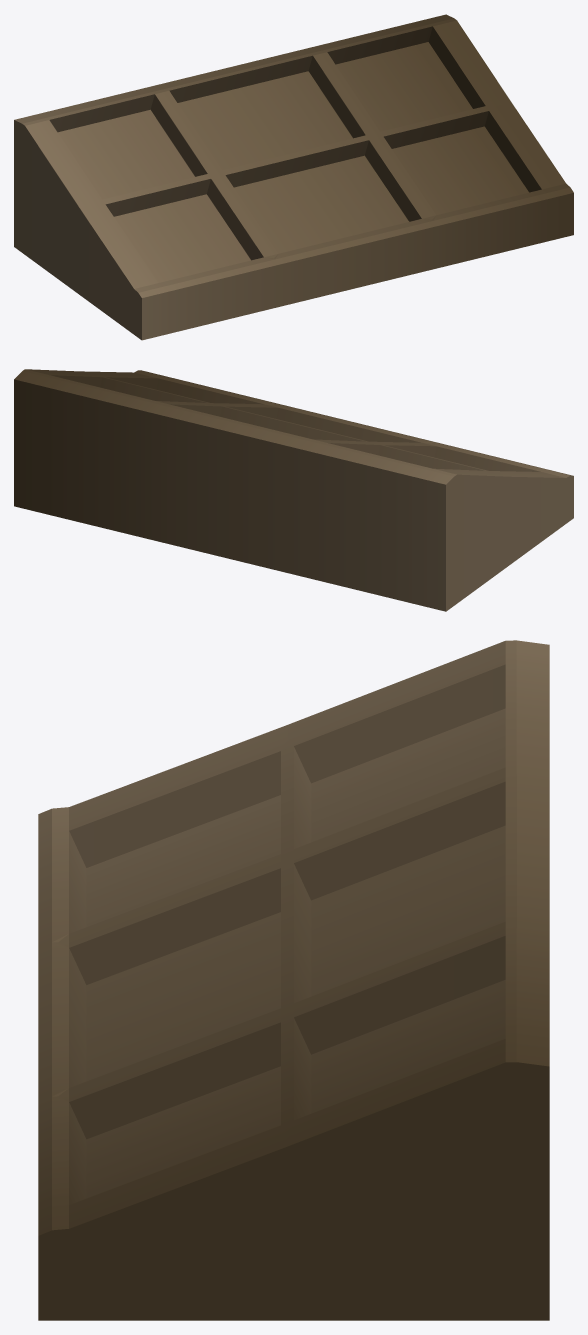
The model's file is MarketStall_Tray_6.gltf.
The picture shows the model from 3 angles, top to bottom: view 1: azimuth 30°, elevation 25°; view 2: azimuth 150°, elevation 25°; view 3: azimuth 270°, elevation 25°; orthographic projection. The views are drawn at different scales.
Visible parts, largest first — view 1: MarketStall_Tray_6; view 2: MarketStall_Tray_6; view 3: MarketStall_Tray_6.
Boxes of the visible parts, x1,y1,x2,y2 form: MarketStall_Tray_6: [14, 14, 573, 340]; MarketStall_Tray_6: [14, 369, 573, 611]; MarketStall_Tray_6: [38, 640, 549, 1320].
Size of the model in its own units: 2.1 by 0.5996 by 1.08.
1 material, 1 textured.
